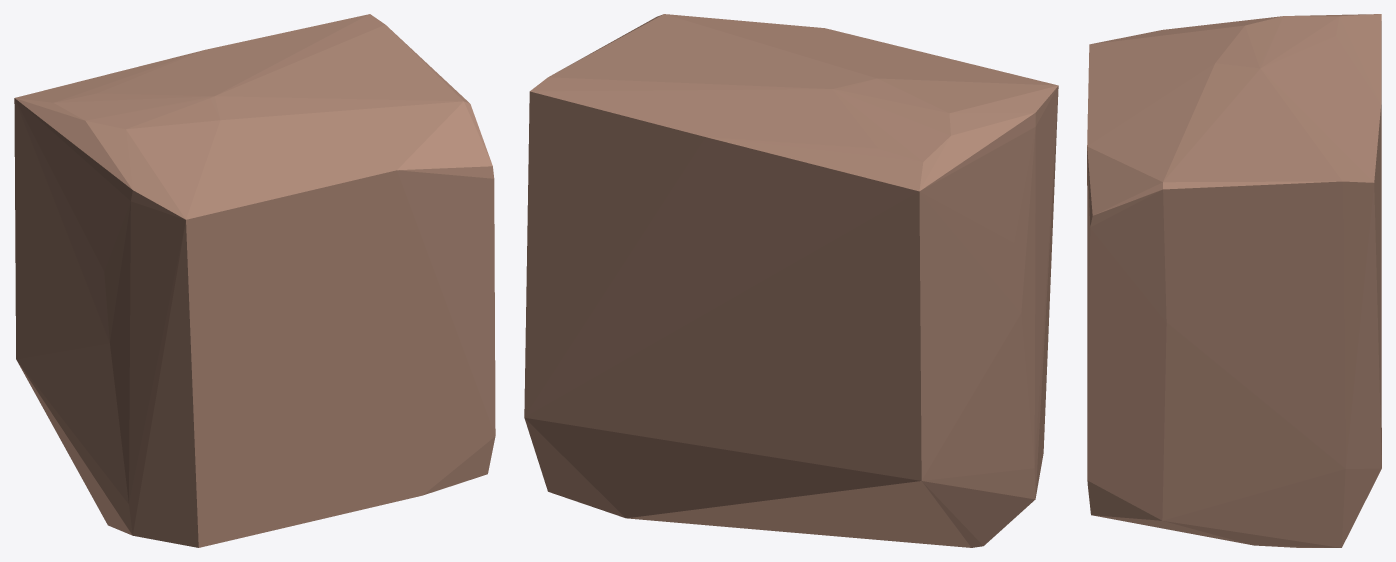
Rendered from pallet_assembly_red_a04.glb.
3 renders of one model, left to right at view 1: azimuth 30°, elevation 25°; view 2: azimuth 150°, elevation 25°; view 3: azimuth 270°, elevation 25°, orthographic. The views are drawn at different scales.
Visible parts, largest first — view 1: geometry_0; view 2: geometry_0; view 3: geometry_0.
Part boxes in pixels (x1=…): geometry_0: x1=14, y1=14, x2=495, y2=547; geometry_0: x1=524, y1=14, x2=1058, y2=547; geometry_0: x1=1087, y1=14, x2=1381, y2=547.
Bounding box in the file's own units: 0.4529 × 0.4783 × 0.3303.
